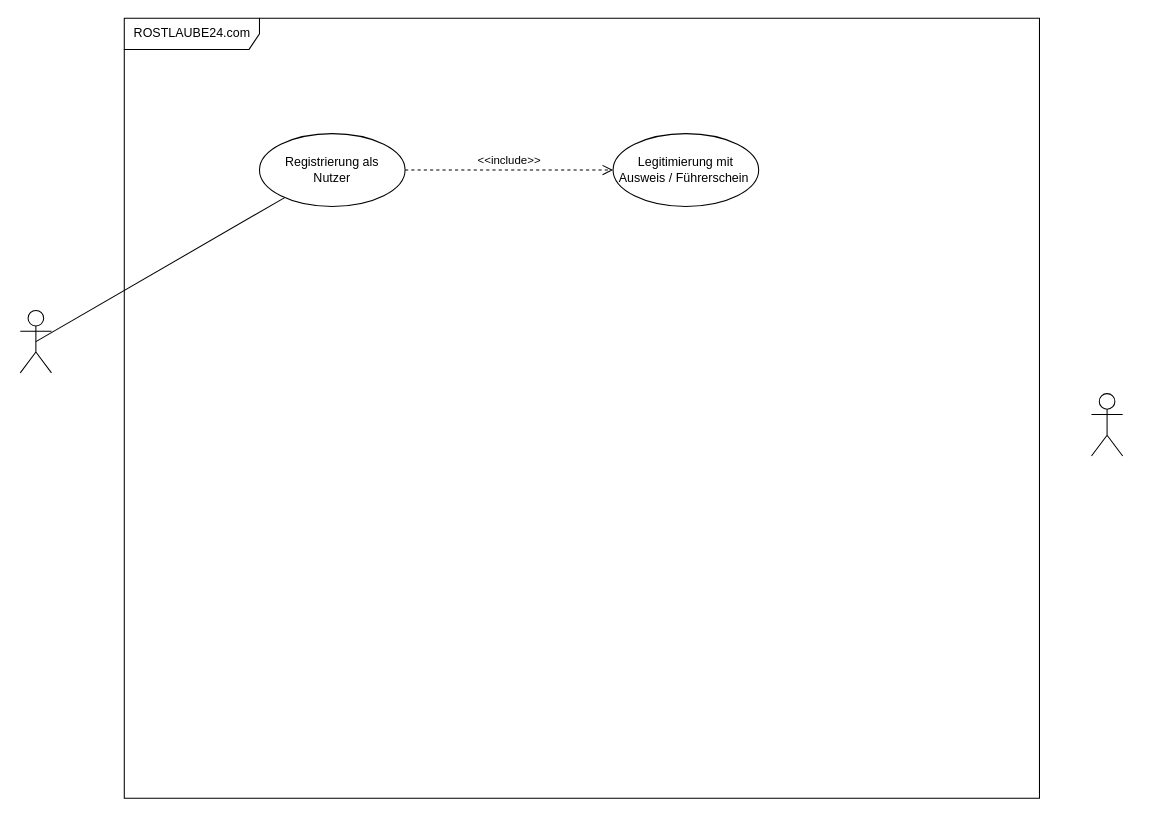
This 1149x816 diagram has some shape labels left out. The centre of each missing label's shape, as x and y in pixels:
"Kunde" belongs at pixel 35 341.
"Mitarbeit" belongs at pixel 1106 424.
